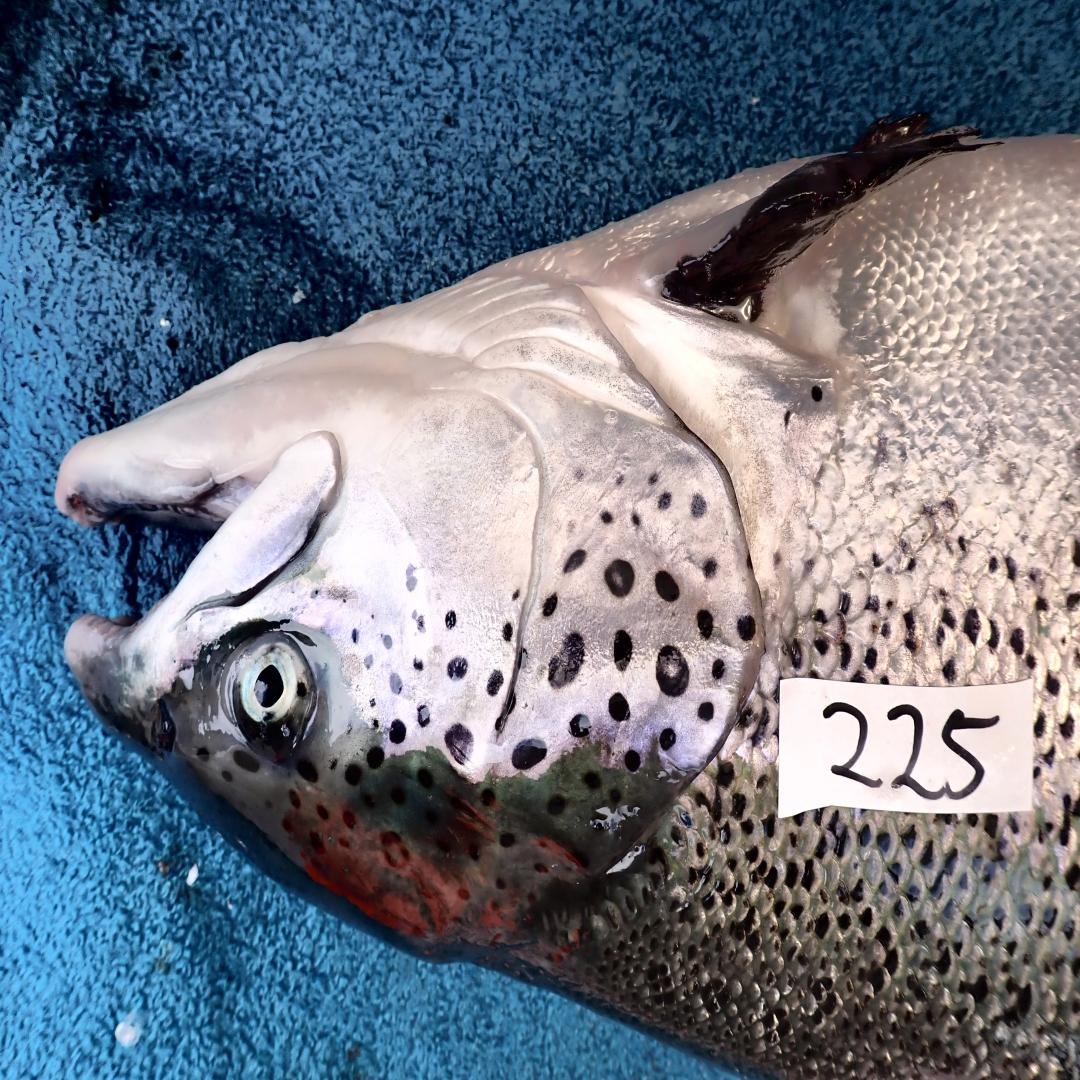spot: (548, 633, 584, 689), (656, 644, 690, 698), (603, 560, 635, 596), (445, 723, 472, 765), (513, 740, 546, 771), (614, 630, 633, 672), (654, 571, 679, 602), (608, 692, 631, 723), (563, 548, 586, 574), (447, 655, 468, 681), (736, 616, 757, 641), (487, 669, 504, 698), (570, 714, 591, 737), (696, 610, 713, 638), (658, 728, 677, 751), (624, 748, 641, 773), (405, 564, 419, 593), (698, 700, 715, 723), (690, 495, 707, 518), (390, 720, 407, 742), (711, 658, 726, 681), (542, 593, 557, 616), (702, 557, 717, 579), (390, 672, 403, 695), (516, 647, 529, 668), (418, 706, 430, 728), (658, 492, 671, 509), (445, 610, 456, 630), (361, 653, 373, 671), (502, 622, 513, 641), (601, 509, 614, 523), (573, 468, 585, 483), (383, 632, 393, 649), (417, 615, 426, 633), (413, 658, 424, 672), (511, 588, 522, 602), (648, 473, 658, 487), (615, 474, 625, 488), (352, 629, 361, 643), (633, 512, 639, 526), (373, 719, 380, 730), (411, 609, 418, 618), (369, 698, 375, 708), (342, 597, 347, 604), (315, 589, 319, 595), (371, 614, 374, 621)
